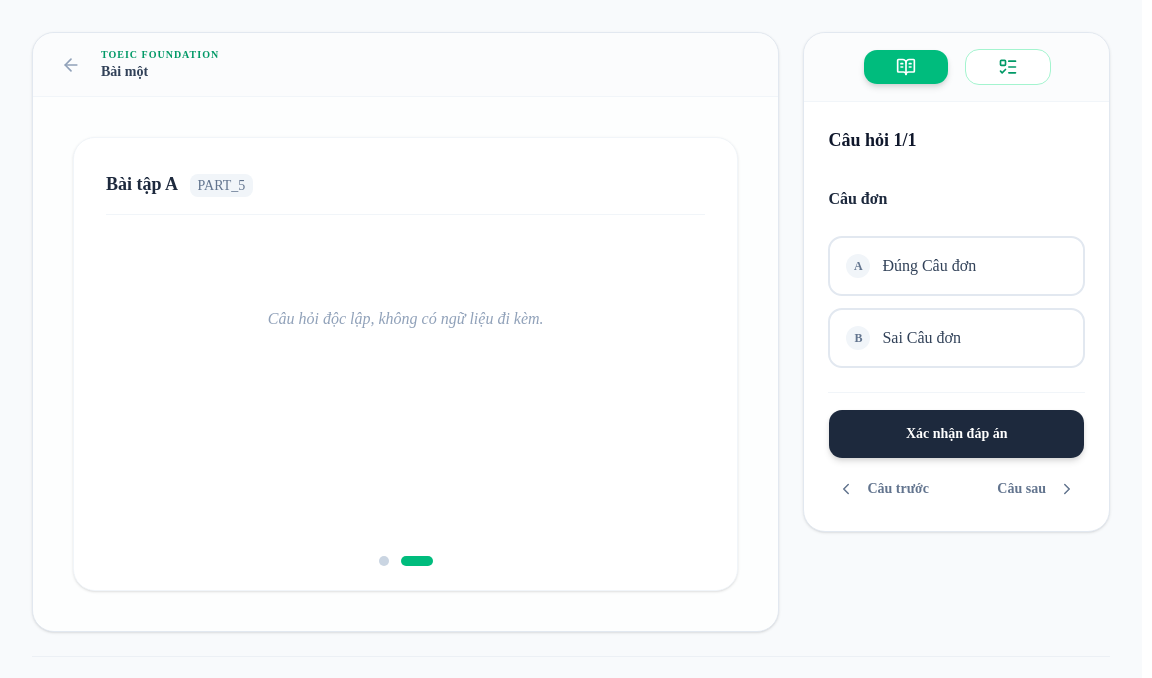
D4 topic completion UI › shows standalone questions first without a passage or group label, then the groups
Expected: the text "Câu hỏi độc lập, không có ngữ liệu đi kèm." is shown, 268,310 -> 544,327
Expected: the text "Câu đơn" is shown, 828,190 -> 888,207
Click the button "Câu sau" at (1037, 489), box 988,471 -> 1085,507
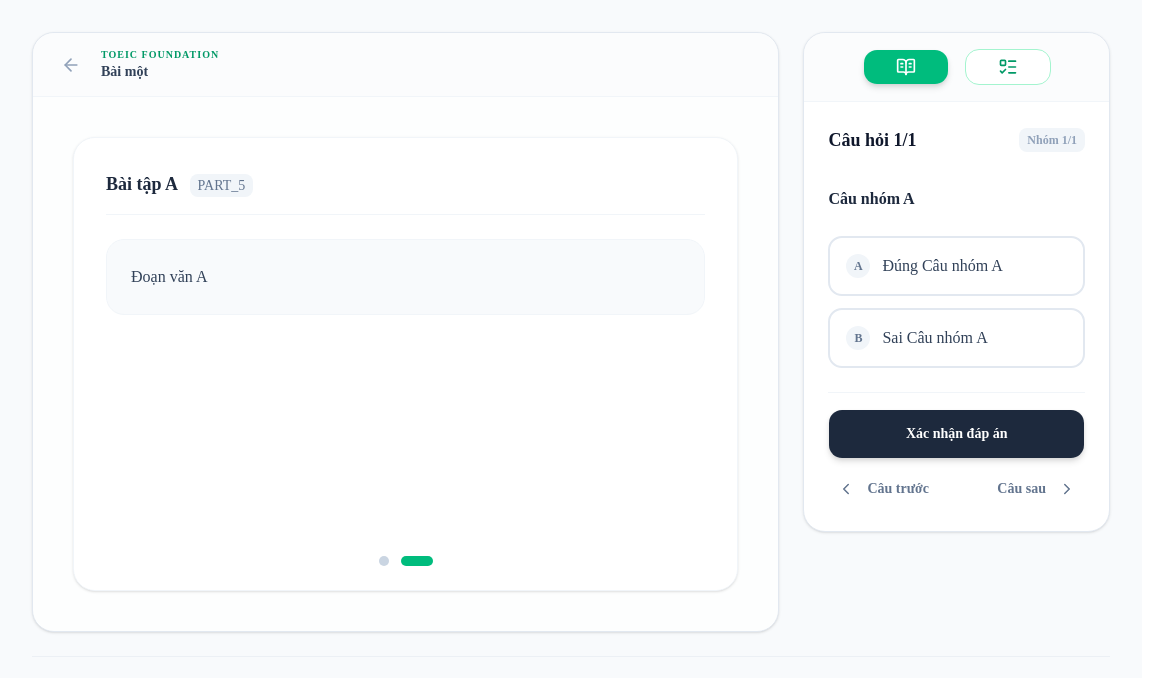
Result: the text "Câu nhóm A" is shown at 828,190 -> 915,207
Result: the text "Đoạn văn A" is shown at 106,239 -> 705,315
Result: the text "Nhóm 1/1" is shown at 1019,128 -> 1085,152
